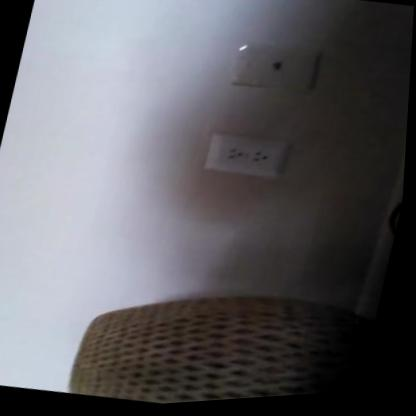OUTLET: (201, 124, 289, 185)
